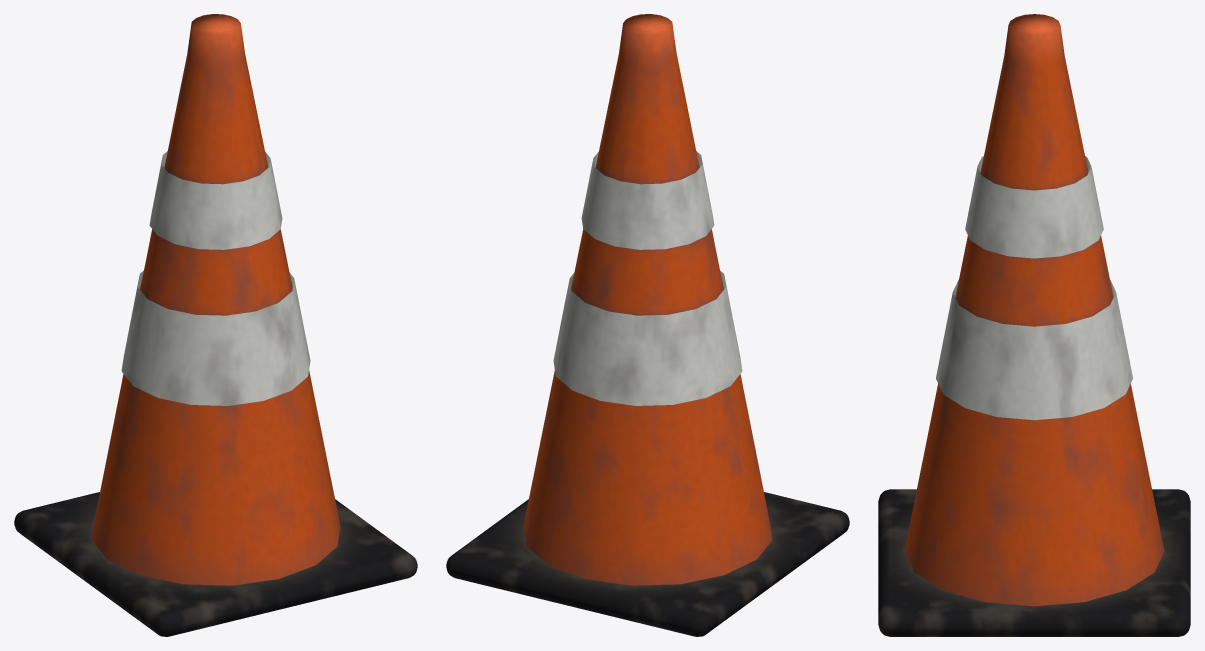
Rendered from pacholek.glb.
The picture shows the model from 3 angles, left to right: view 1: azimuth 30°, elevation 25°; view 2: azimuth 150°, elevation 25°; view 3: azimuth 270°, elevation 25°; orthographic projection. The views are drawn at different scales.
Visible parts, largest first — view 1: Pacholek; view 2: Pacholek; view 3: Pacholek.
Boxes of the visible parts, box(x1,y1,x2,y2) form: Pacholek: box(14, 14, 417, 636); Pacholek: box(446, 14, 849, 636); Pacholek: box(878, 14, 1190, 636).
Bounding box in the file's own units: 0.36 × 0.7 × 0.36.
1 material, 1 textured.
